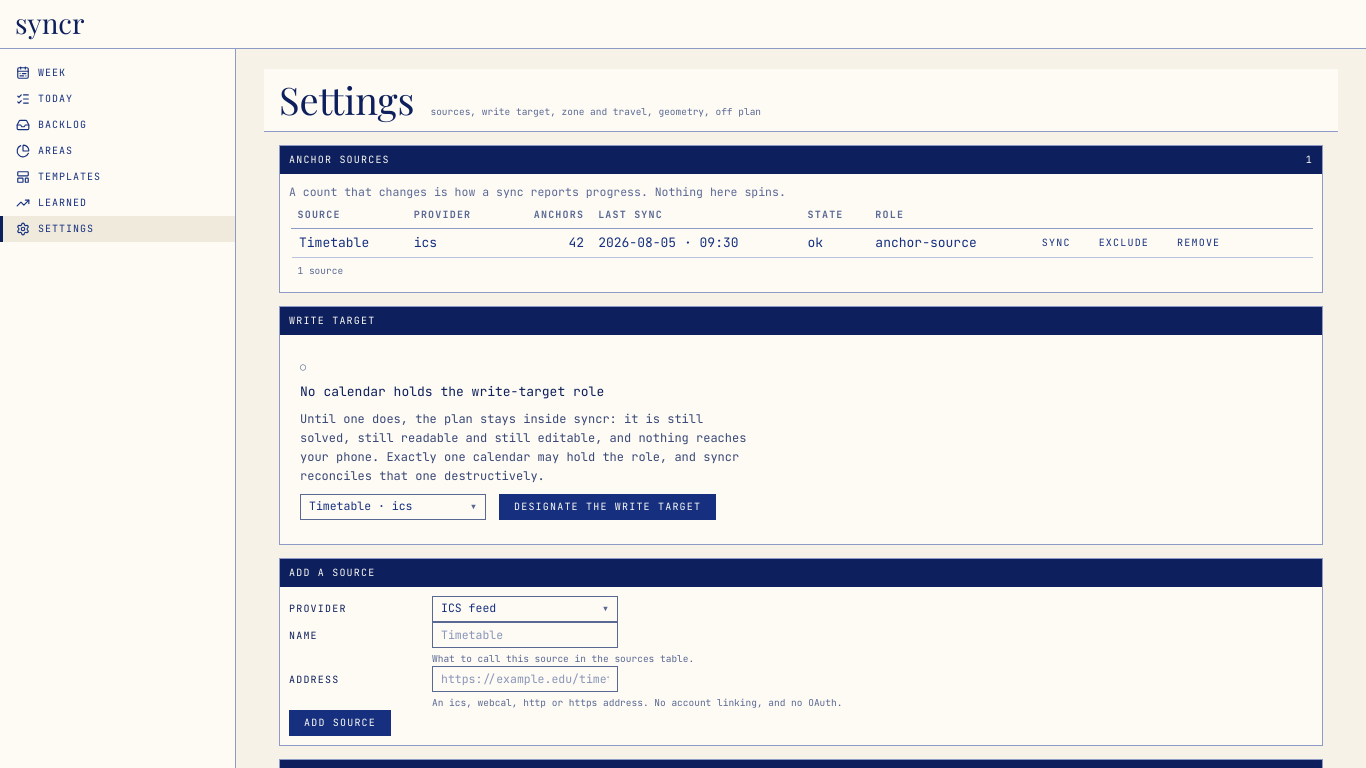
Test case: the write target › renders the api's refusal of a second write target rather than predicting the rule
Expected: the table named "Anchor sources" is shown, [289, 201, 1313, 283]
Click the button "Designate the write target" at (608, 507), box [499, 494, 716, 520]
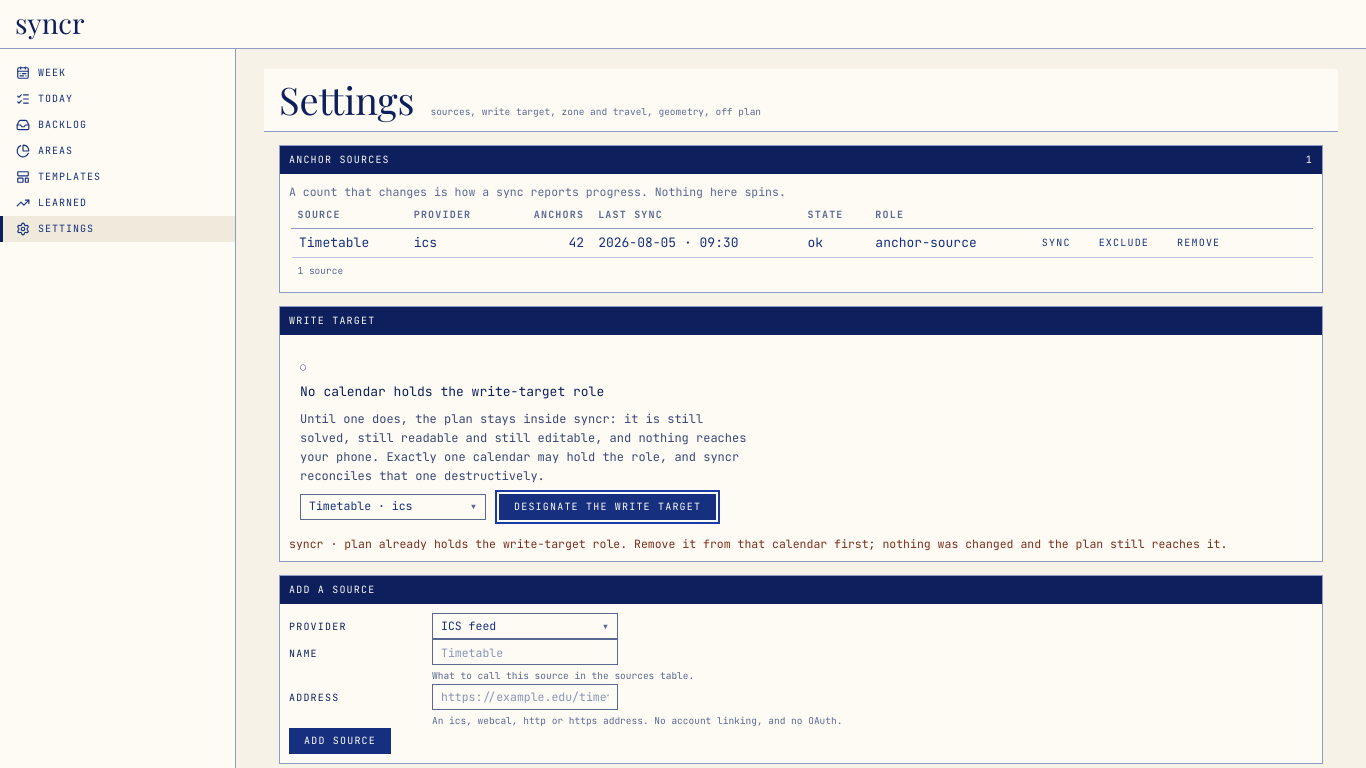
Now the text "already holds the write-target role" is shown, box [289, 536, 1227, 551]
